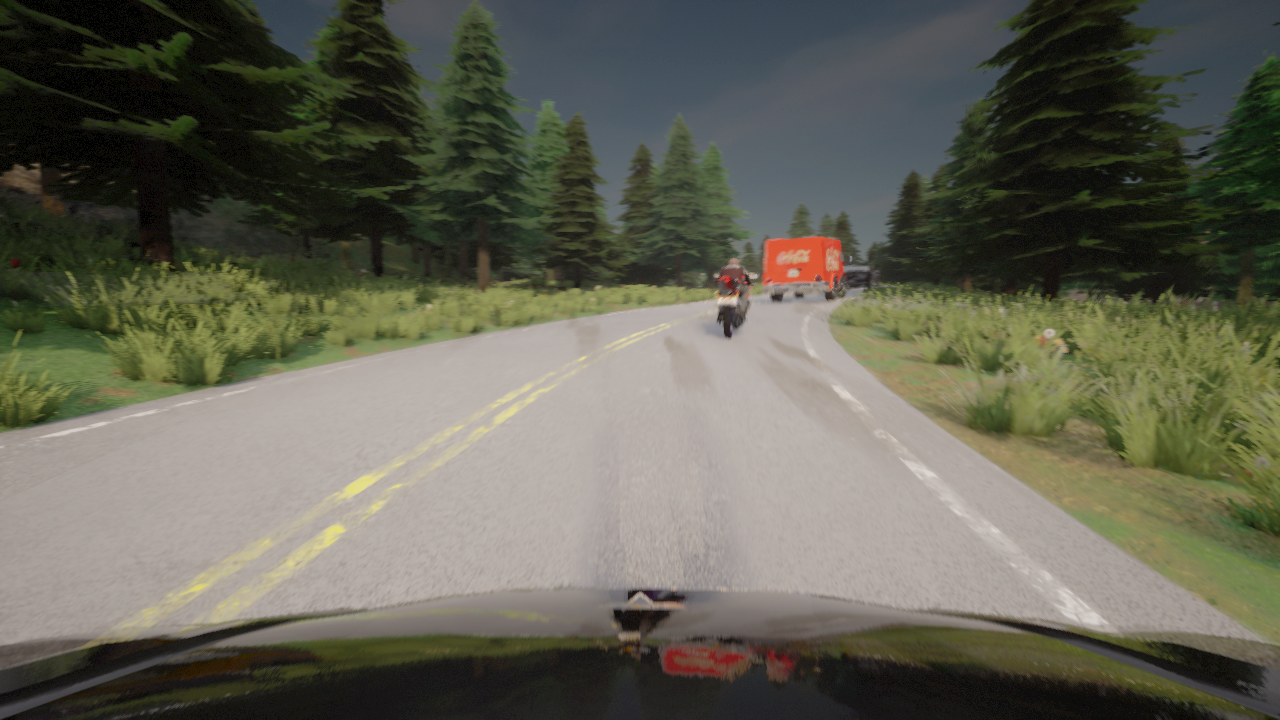cyclist: (0, 588, 1279, 719), (762, 236, 852, 302), (714, 274, 756, 339), (844, 263, 878, 290), (871, 266, 873, 268)
